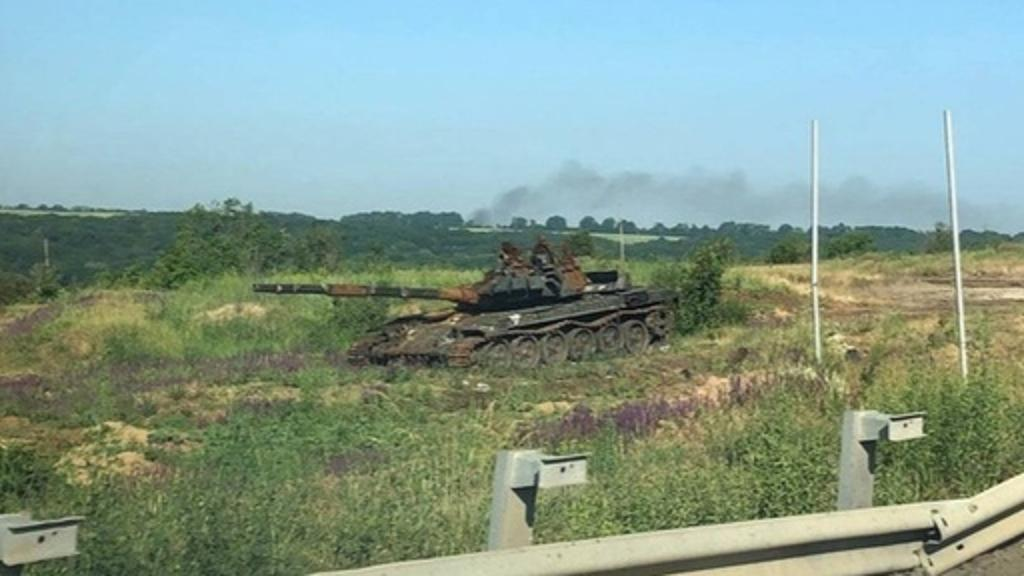TANK: (250, 244, 676, 374)
